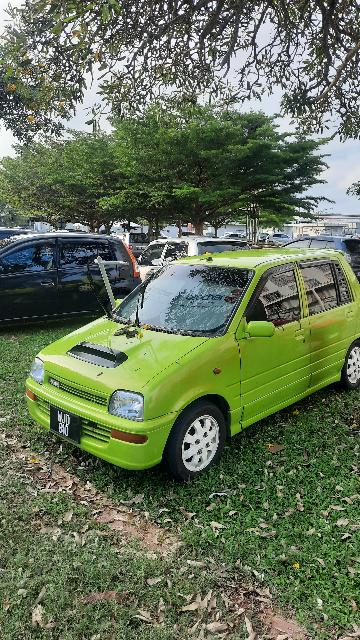License_Plate: (46, 402, 87, 448)
car: (23, 244, 360, 480)
